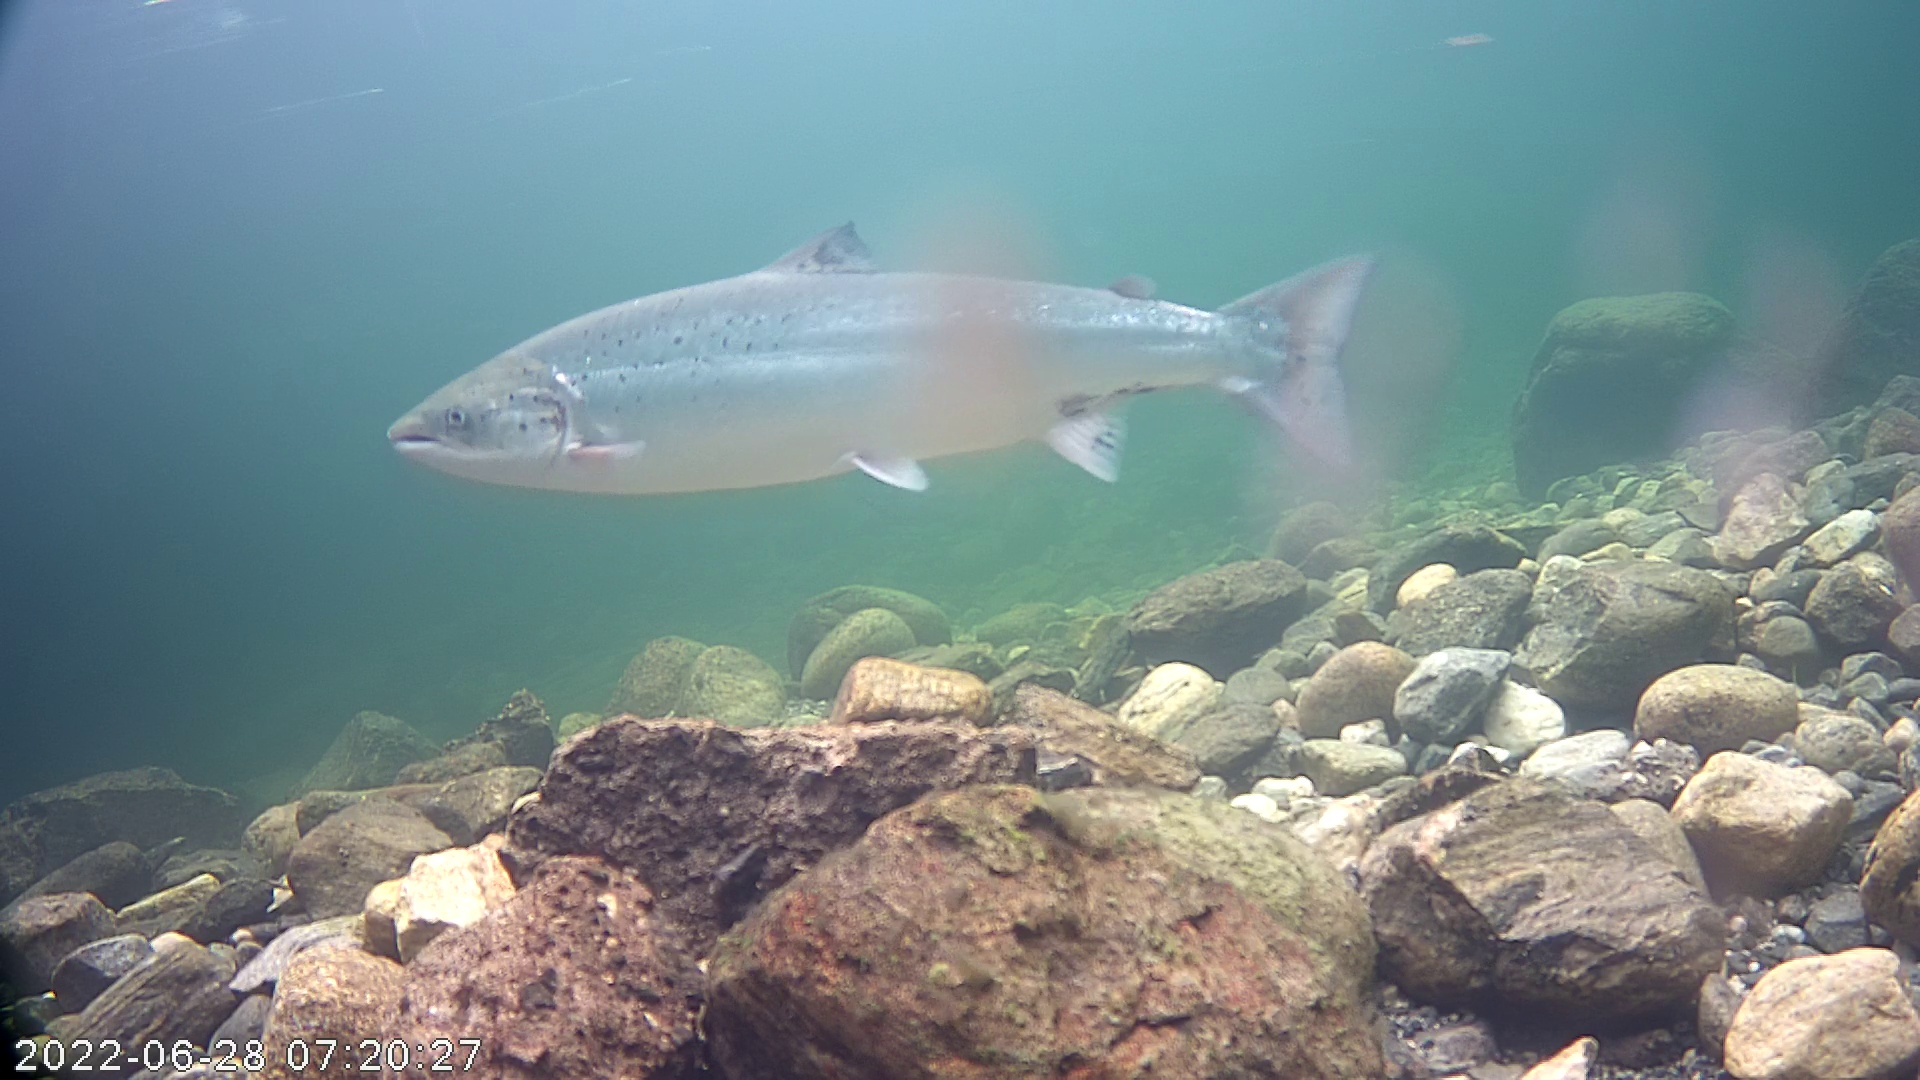salmon: (368, 129, 1412, 553)
